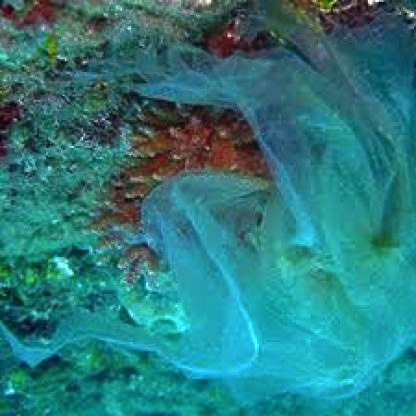pbag: (27, 16, 416, 405)
